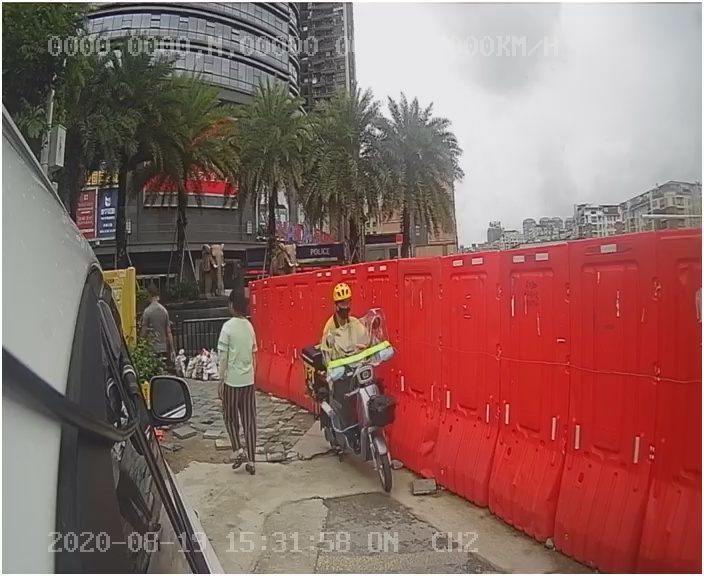person: (194, 281, 285, 477)
